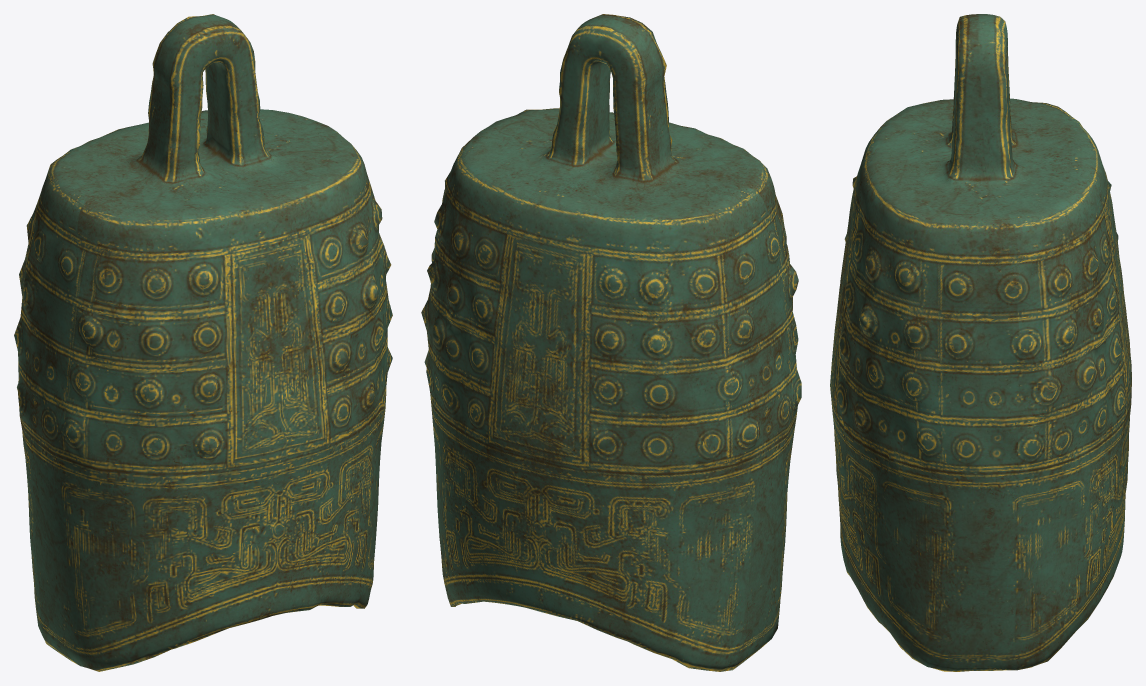
The model's file is 04-han-gilt-bianzhong.glb.
3 renders of one model, left to right at view 1: azimuth 30°, elevation 25°; view 2: azimuth 150°, elevation 25°; view 3: azimuth 270°, elevation 25°, orthographic. The views are drawn at different scales.
Visible parts, largest first — view 1: node_low; view 2: node_low; view 3: node_low.
Part boxes in pixels (left/top/right/bottom): node_low: left=14, top=14, right=392, bottom=671; node_low: left=421, top=14, right=801, bottom=671; node_low: left=830, top=14, right=1131, bottom=671.
Bounding box in the file's own units: 0.6153 × 1.07 × 0.4964.
Materials: 1 (1 with a texture image).
